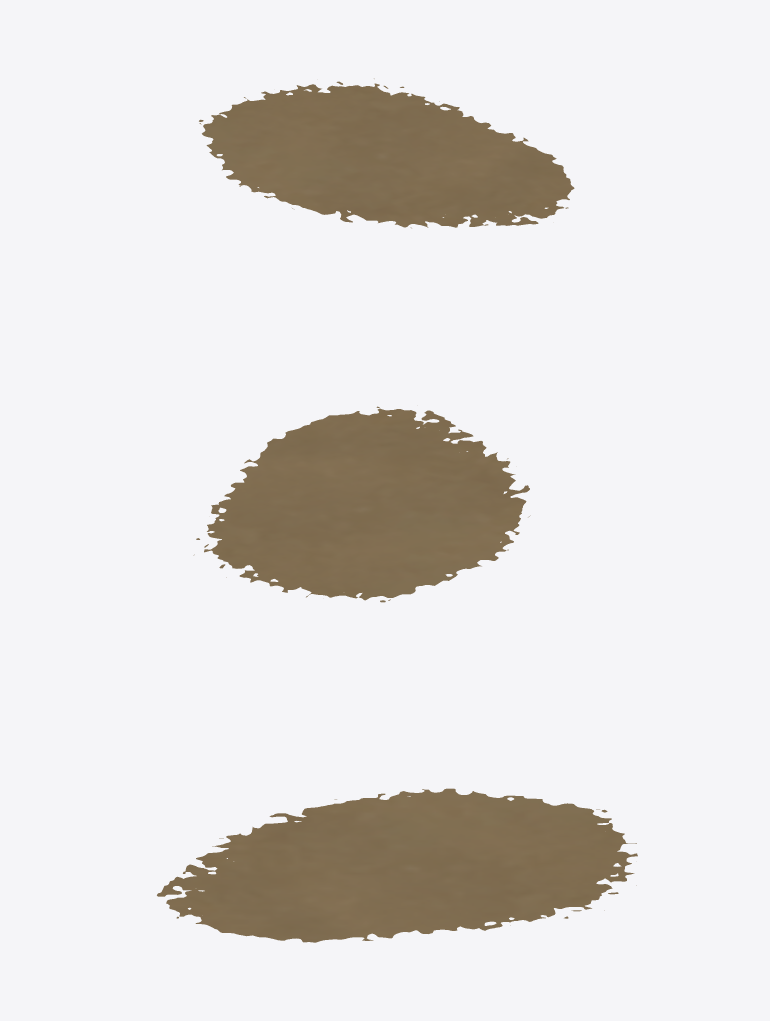
Rendered from scene_malujiakuangdao_ground01.FBX.
3 views of the same model, one above another, from view 1: azimuth 30°, elevation 25°; view 2: azimuth 150°, elevation 25°; view 3: azimuth 270°, elevation 25° (orthographic). The views are drawn at different scales.
Parts seen in each view (by area): view 1: scene_malujiakuangdao_ground01; view 2: scene_malujiakuangdao_ground01; view 3: scene_malujiakuangdao_ground01.
Part boxes in pixels (x1,y1,x2,y2): scene_malujiakuangdao_ground01: [199, 78, 574, 228]; scene_malujiakuangdao_ground01: [193, 406, 530, 602]; scene_malujiakuangdao_ground01: [157, 788, 637, 942].
Size of the model in its own units: 454 by 4.19e-05 by 479.
